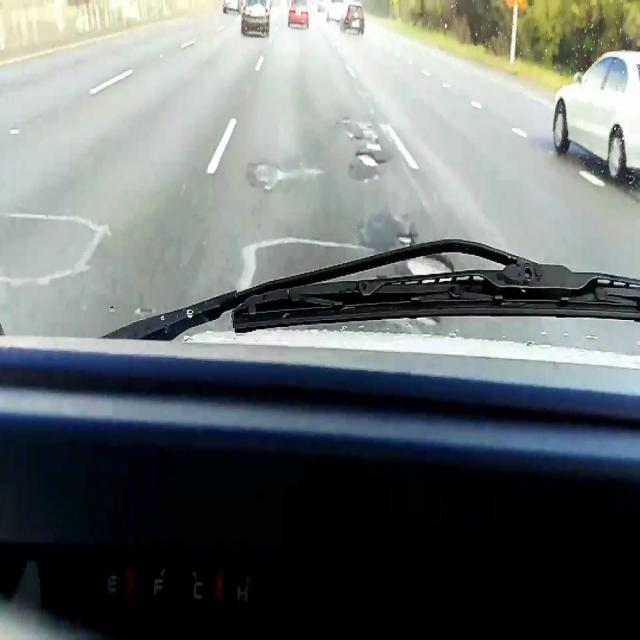Pothole: (406, 254, 456, 274), (357, 150, 384, 170)
